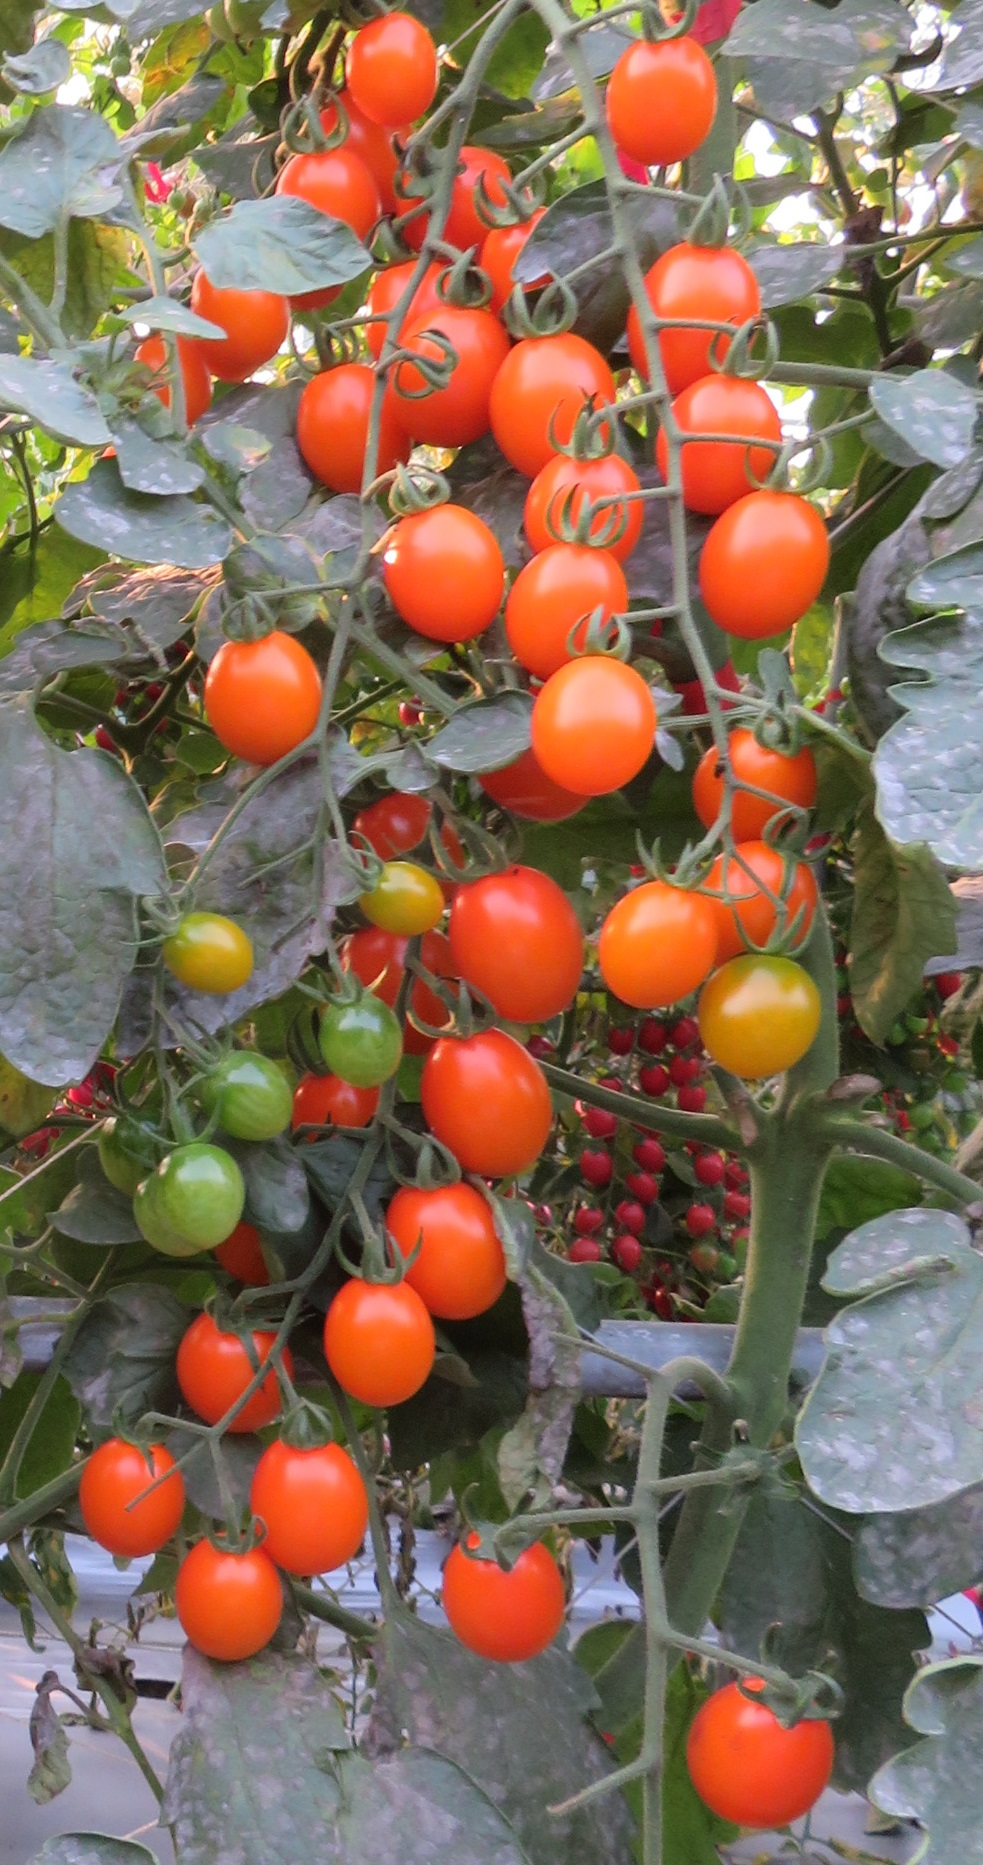green: (685, 949, 820, 1083), (153, 1132, 247, 1245), (191, 1053, 301, 1143), (313, 987, 409, 1083), (159, 912, 261, 995), (361, 862, 445, 941)
orange: (686, 1670, 837, 1832), (693, 479, 836, 635), (421, 1023, 555, 1183), (442, 1533, 588, 1668), (532, 651, 664, 799), (507, 535, 636, 682), (249, 1428, 370, 1583), (458, 866, 574, 1026), (389, 1174, 513, 1320), (634, 232, 754, 382), (603, 32, 726, 171), (74, 1430, 199, 1567), (590, 879, 722, 1008), (318, 1262, 430, 1410), (380, 500, 501, 635), (174, 1310, 294, 1433), (174, 1532, 280, 1670), (491, 333, 613, 451), (207, 632, 324, 751), (659, 377, 775, 497), (511, 443, 631, 549), (343, 14, 453, 128), (403, 147, 518, 249), (295, 358, 377, 480), (352, 784, 458, 875), (274, 149, 384, 236), (195, 280, 291, 374), (133, 332, 210, 432)
red: (576, 1145, 615, 1185), (685, 1200, 718, 1238), (611, 1195, 643, 1235), (698, 1150, 729, 1187), (636, 1138, 668, 1173), (676, 1084, 710, 1116), (583, 1105, 615, 1138), (636, 1019, 666, 1055), (639, 1063, 671, 1094), (603, 1024, 635, 1055), (619, 1237, 645, 1270)
